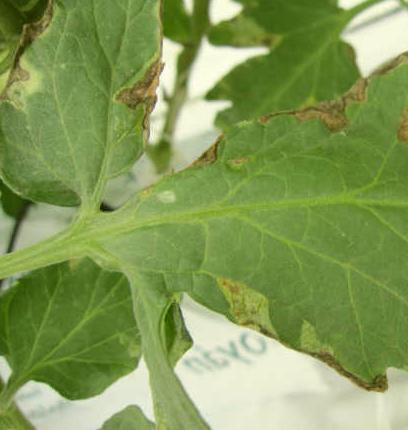Tomato leaf bacterial spot: (120, 52, 408, 395), (0, 0, 177, 230)
